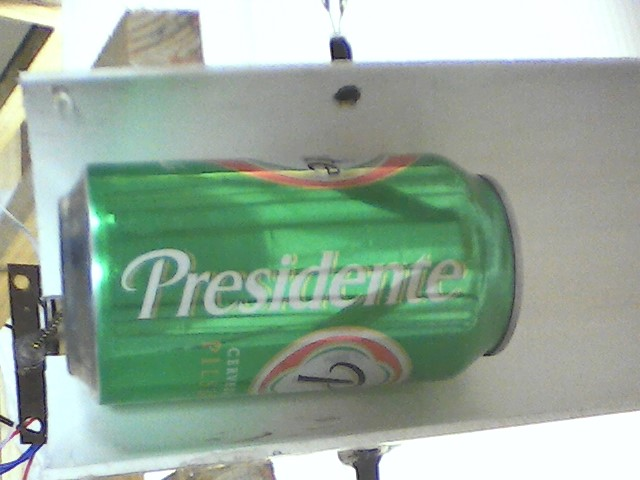lata: (53, 153, 529, 407)
